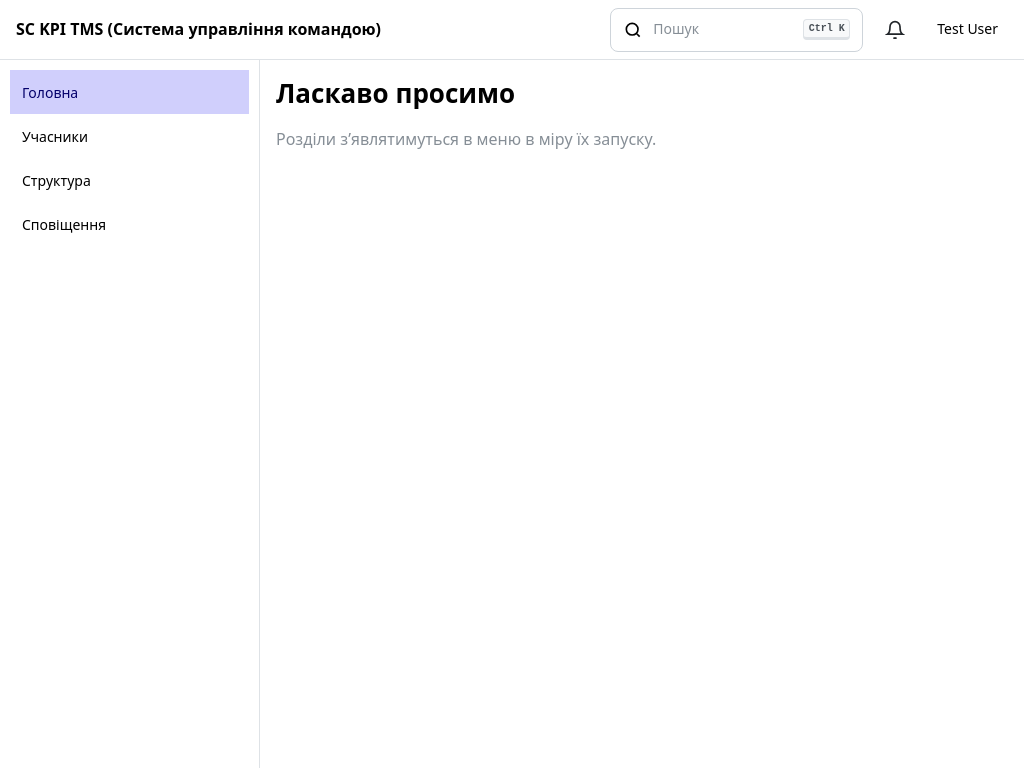
Test: App shell › renders home in uk, shell chrome, title, and switches language to en
Expected: the heading "Ласкаво просимо" is shown, x1=276 y1=75 x2=515 y2=111
Expected: the button with test id "bell-slot" is shown, x1=873 y1=8 x2=917 y2=52
Click the button with aria-label "Меню користувача": (968, 30) x1=927 y1=8 x2=1008 y2=52
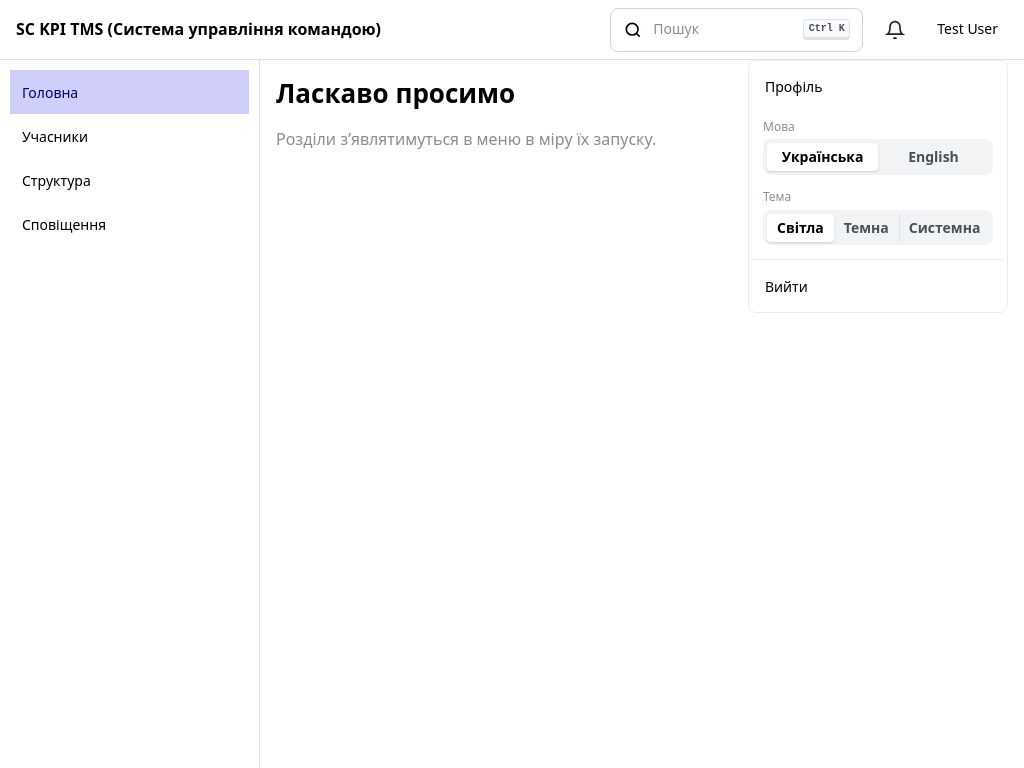
Click the text "English": (934, 157) x1=908 y1=147 x2=959 y2=166
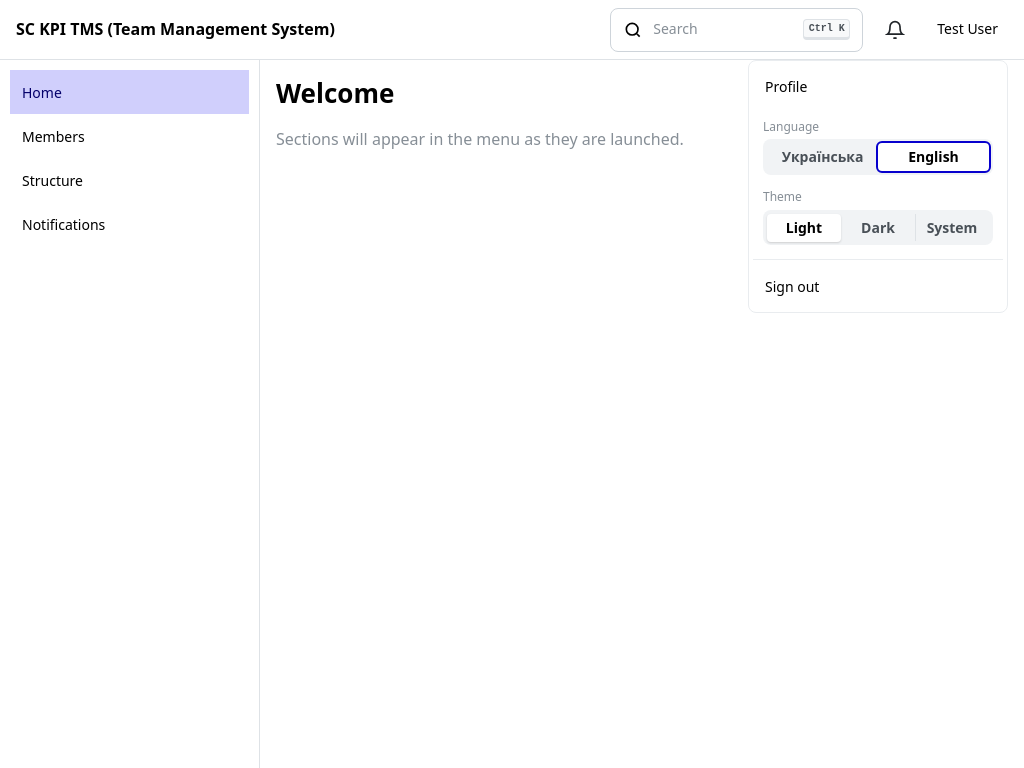
Result: the heading "Welcome" is shown at x1=276 y1=75 x2=394 y2=111
